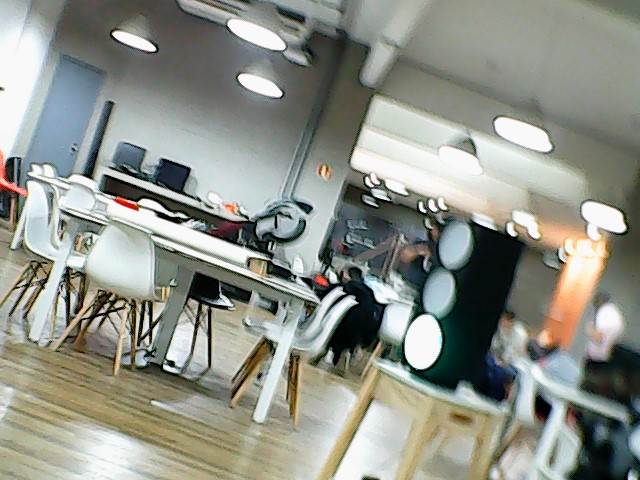verde: (381, 197, 534, 425)
